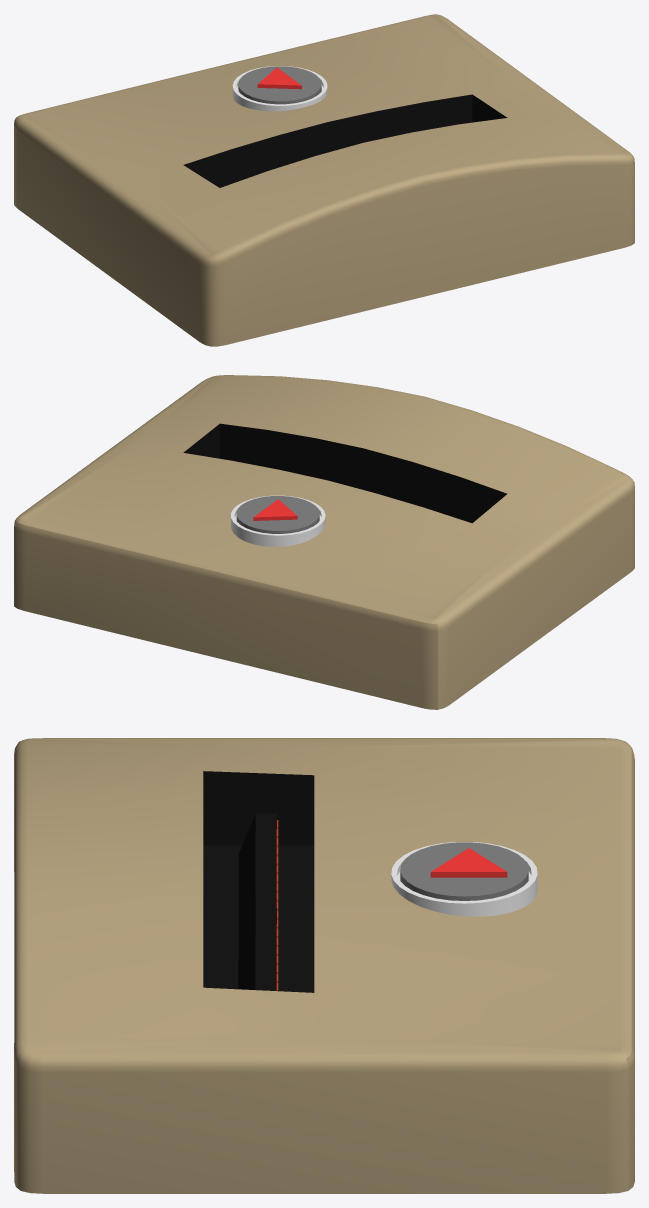
Rendered from Konsole.fbx.
3 views of the same model, one above another, from view 1: azimuth 30°, elevation 25°; view 2: azimuth 150°, elevation 25°; view 3: azimuth 270°, elevation 25° (orthographic). The views are drawn at different scales.
Parts seen in each view (by area): view 1: Konsole, Cylinder026, Cylinder025, Prism001; view 2: Konsole, Cylinder026, Cylinder025, Prism001; view 3: Konsole, Cylinder026, Cylinder025, Prism001.
Part boxes in pixels (bbox=[...]): Konsole: bbox=[14, 14, 634, 346]; Cylinder026: bbox=[238, 66, 321, 104]; Cylinder025: bbox=[232, 66, 327, 111]; Prism001: bbox=[257, 67, 301, 89]; Konsole: bbox=[14, 375, 634, 709]; Cylinder026: bbox=[236, 496, 319, 533]; Cylinder025: bbox=[230, 495, 325, 546]; Prism001: bbox=[253, 499, 297, 520]; Konsole: bbox=[14, 738, 634, 1193]; Cylinder026: bbox=[400, 842, 528, 900]; Cylinder025: bbox=[391, 842, 537, 916]; Prism001: bbox=[430, 848, 507, 877].
Bounding box in the file's own units: 130 × 34 × 105.
